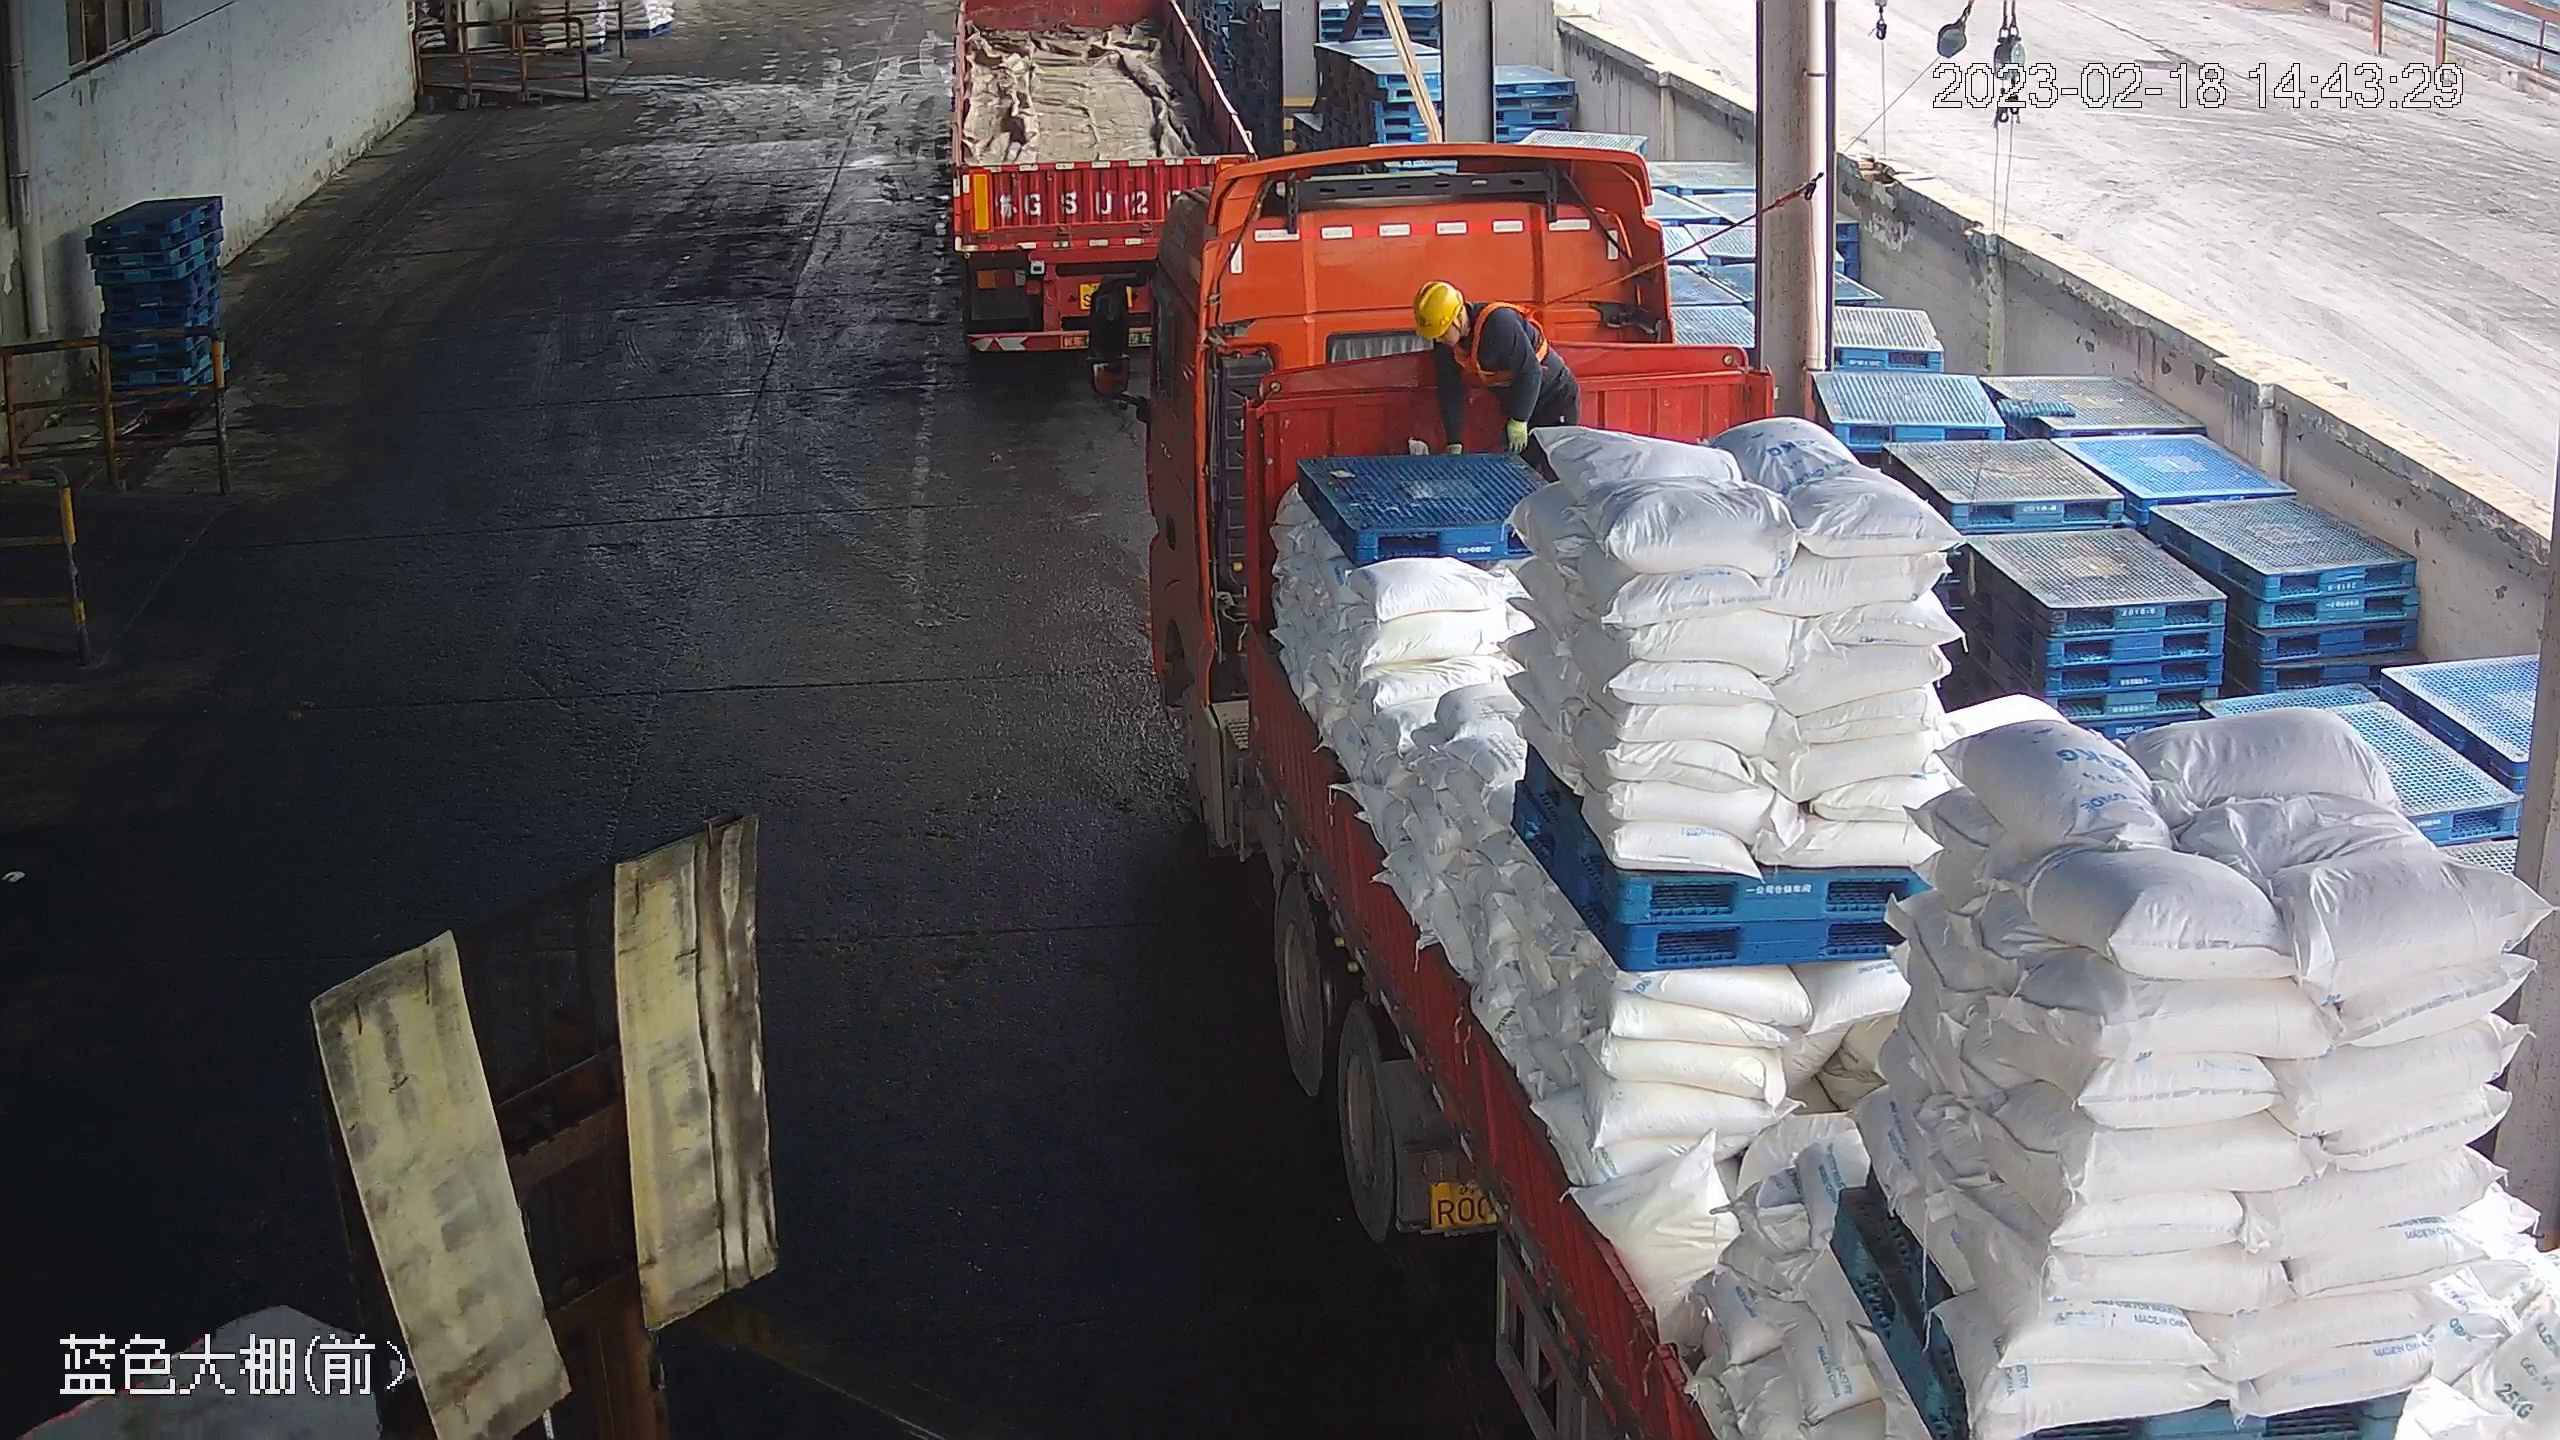belt: (1455, 297, 1546, 385)
head: (1410, 278, 1526, 359)
helmet: (1412, 278, 1466, 341)
people: (1411, 275, 1583, 482)
truck: (1091, 141, 2560, 1440), (948, 2, 1259, 353)
